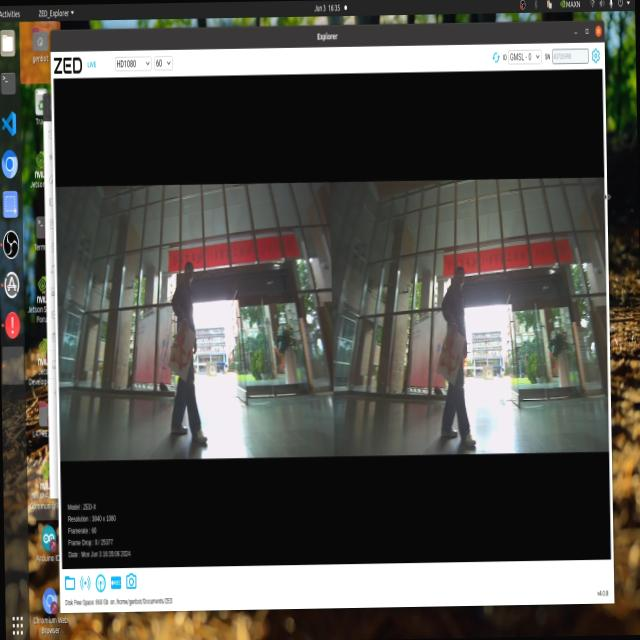red: (172, 324, 190, 374), (444, 335, 461, 383)
